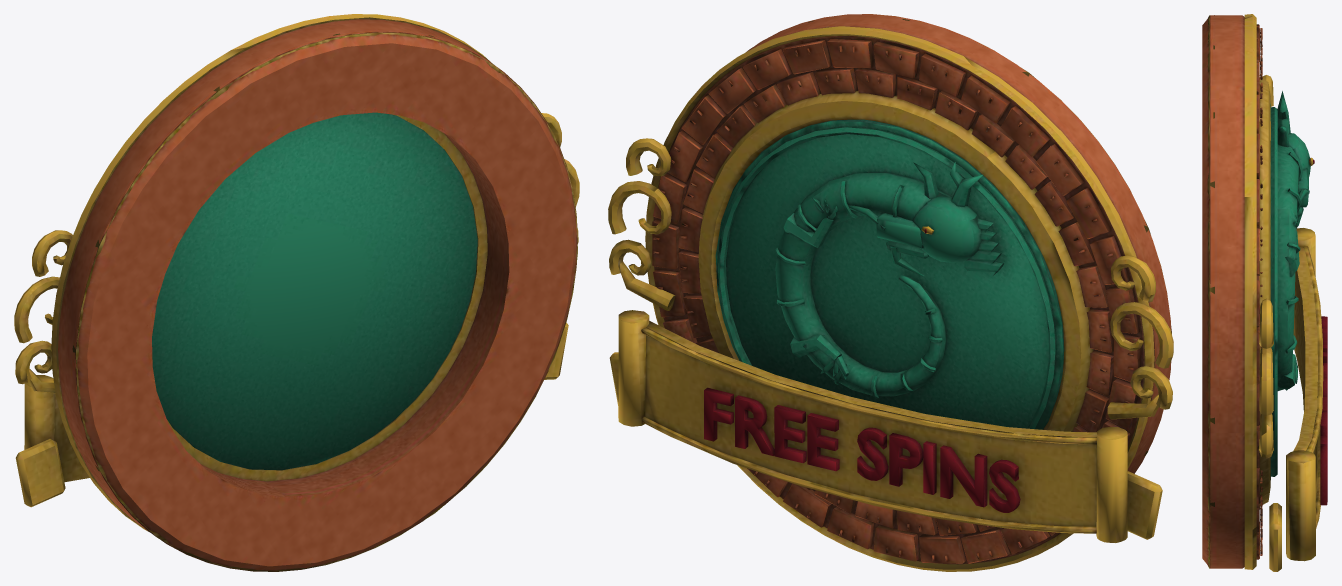
3 renders of one model, left to right at view 1: azimuth 30°, elevation 25°; view 2: azimuth 150°, elevation 25°; view 3: azimuth 270°, elevation 25°, orthographic. The views are drawn at different scales.
Parts seen in each view (by area): view 1: Weathered_terracotta, Deep_translucent-looking_jade, Polished_imperial_gold; view 2: Polished_imperial_gold, Deep_translucent-looking_jade, Weathered_terracotta, Oxblood_inscription; view 3: Weathered_terracotta, Polished_imperial_gold, Deep_translucent-looking_jade, Oxblood_inscription.
Boxes of the visible parts, x1=… form: Weathered_terracotta: x1=58, y1=19, x2=577, y2=571; Deep_translucent-looking_jade: x1=152, y1=112, x2=477, y2=470; Polished_imperial_gold: x1=14, y1=14, x2=579, y2=571; Polished_imperial_gold: x1=608, y1=19, x2=1173, y2=571; Deep_translucent-looking_jade: x1=715, y1=119, x2=1064, y2=429; Weathered_terracotta: x1=652, y1=14, x2=1171, y2=564; Oxblood_inscription: x1=704, y1=228, x2=1020, y2=512; Weathered_terracotta: x1=1202, y1=15, x2=1262, y2=568; Polished_imperial_gold: x1=1207, y1=14, x2=1323, y2=571; Deep_translucent-looking_jade: x1=1270, y1=91, x2=1310, y2=479; Oxblood_inscription: x1=1313, y1=159, x2=1327, y2=505.
Size of the model in its own units: 2.71 by 2.43 by 0.5473.
4 materials, 4 textured.
